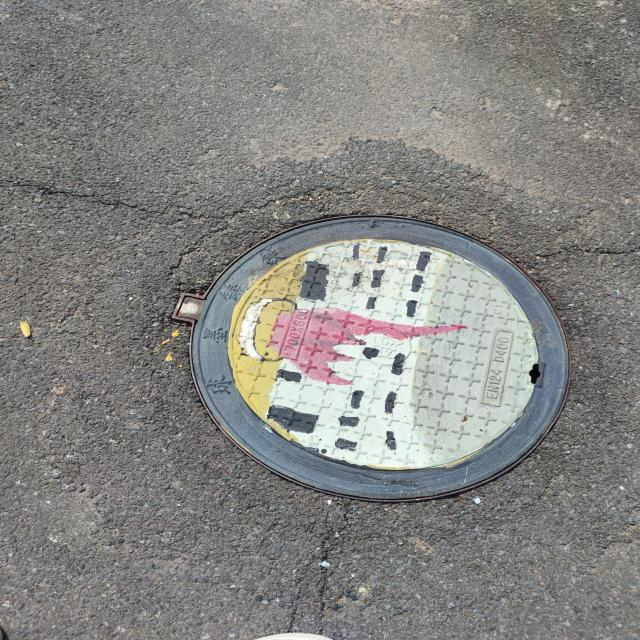Good: (172, 210, 579, 513)
